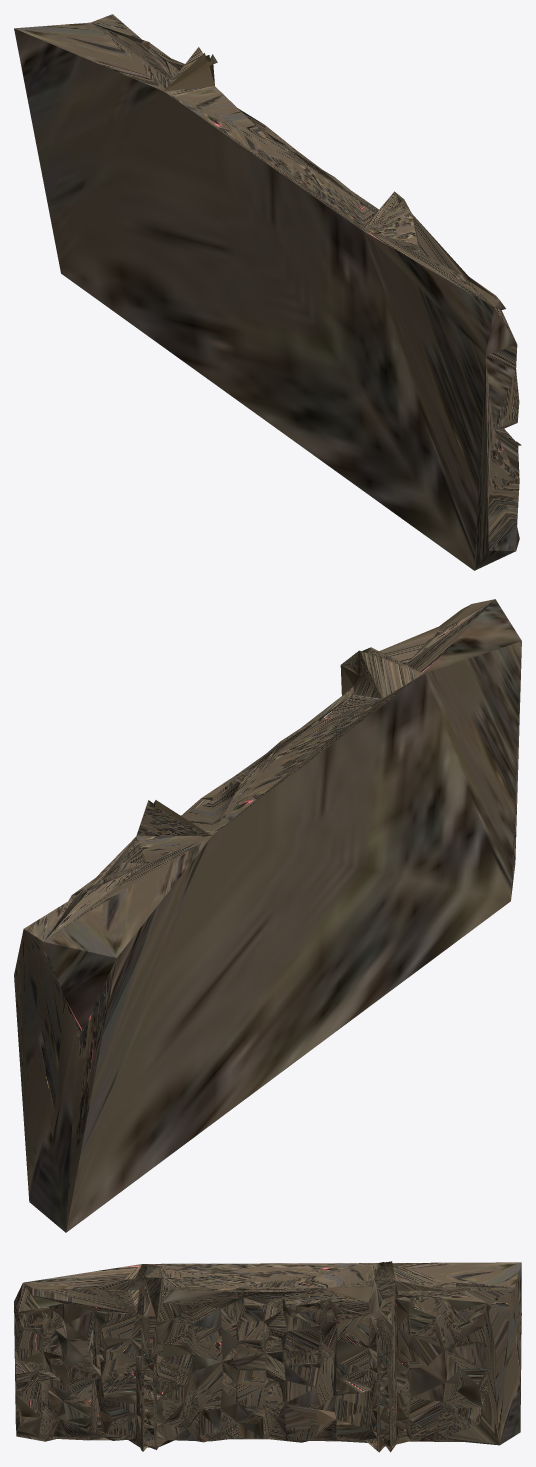
The model's file is l01_far.glb.
3 views of the same model, one above another, from view 1: azimuth 30°, elevation 25°; view 2: azimuth 150°, elevation 25°; view 3: azimuth 270°, elevation 25° (orthographic). The views are drawn at different scales.
Visible parts, largest first — view 1: l01_far; view 2: l01_far; view 3: l01_far.
Part boxes in pixels (<box>): l01_far: <box>14,14,521,570</box>; l01_far: <box>14,599,521,1232</box>; l01_far: <box>14,1261,521,1452</box>.
Size of the model in its own units: 24.32 by 64 by 159.
Materials: 1 (1 with a texture image).
